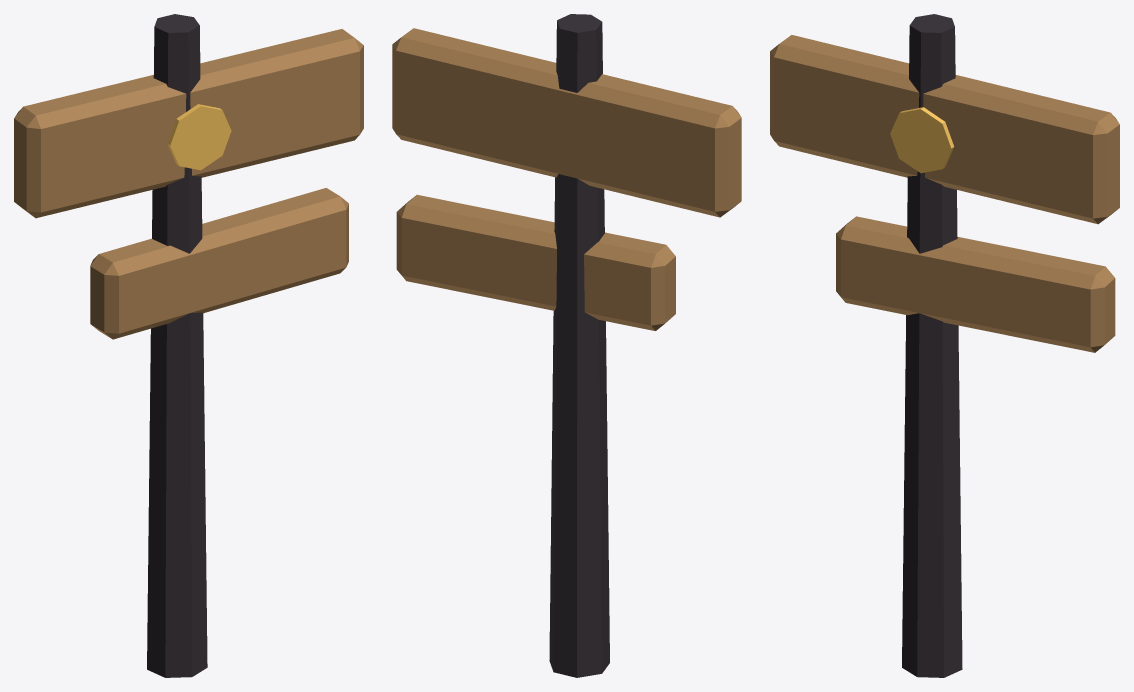
The model's file is enfeite_placa.glb.
3 views of the same model, side by side, from view 1: azimuth 30°, elevation 25°; view 2: azimuth 150°, elevation 25°; view 3: azimuth 330°, elevation 25° (orthographic).
Visible parts, largest first — view 1: vulcao_enfeite_placa; view 2: vulcao_enfeite_placa; view 3: vulcao_enfeite_placa.
Part boxes in pixels (bbox=[...]): vulcao_enfeite_placa: bbox=[14, 14, 363, 677]; vulcao_enfeite_placa: bbox=[392, 14, 741, 677]; vulcao_enfeite_placa: bbox=[770, 14, 1119, 677].
Size of the model in its own units: 0.55 by 1 by 0.099.
